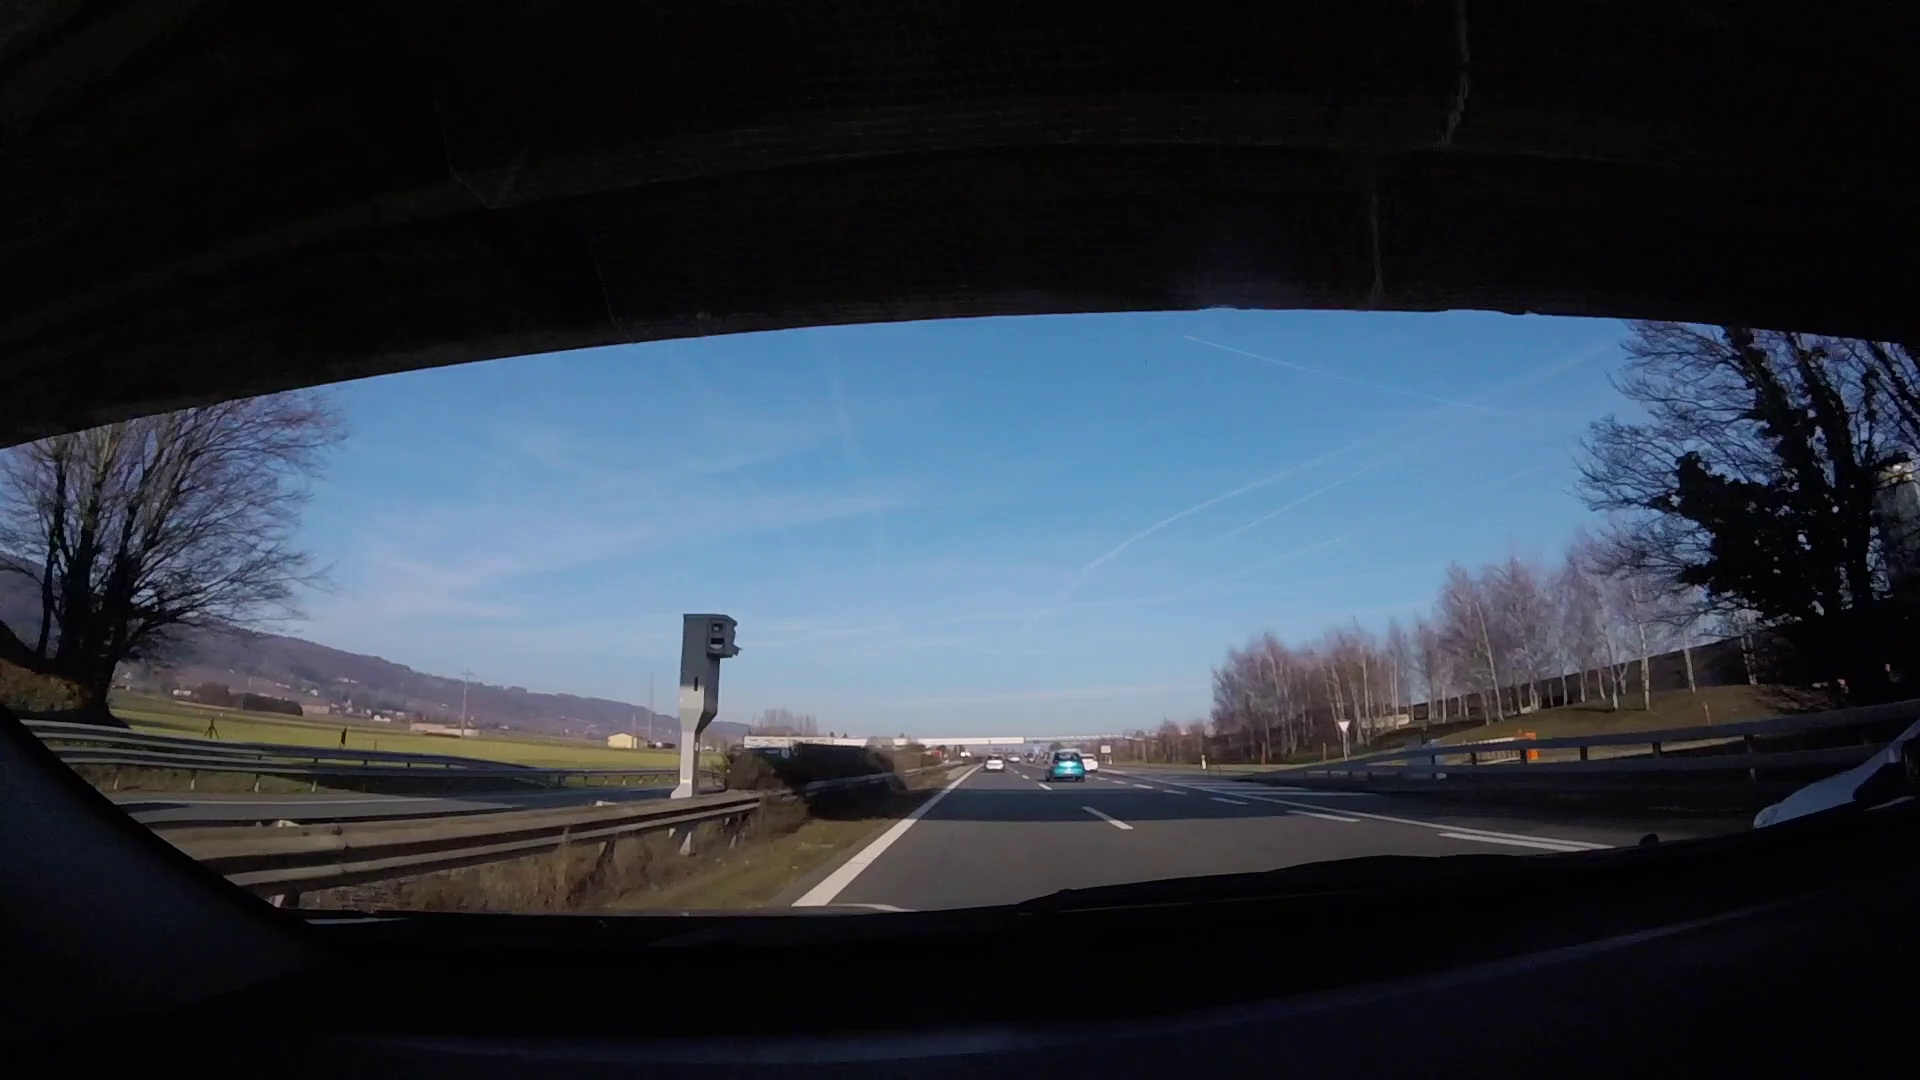radar: (676, 611, 742, 781)
